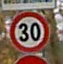limite 30: (8, 9, 51, 52)
